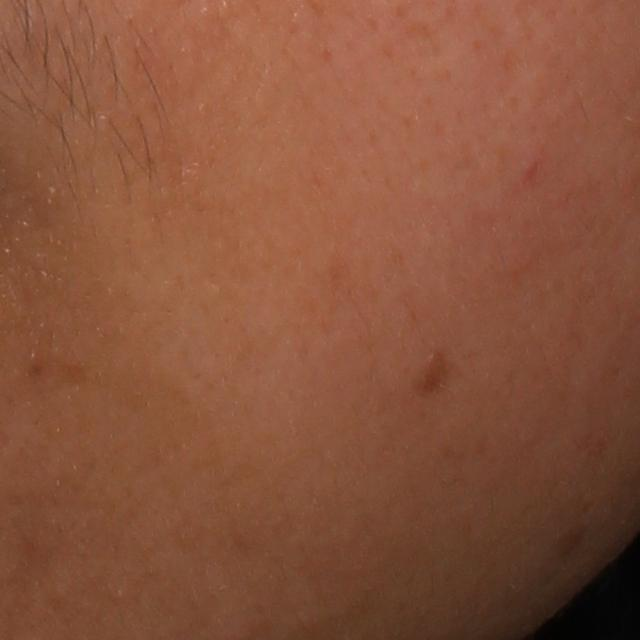nevus: (412, 344, 452, 397)
